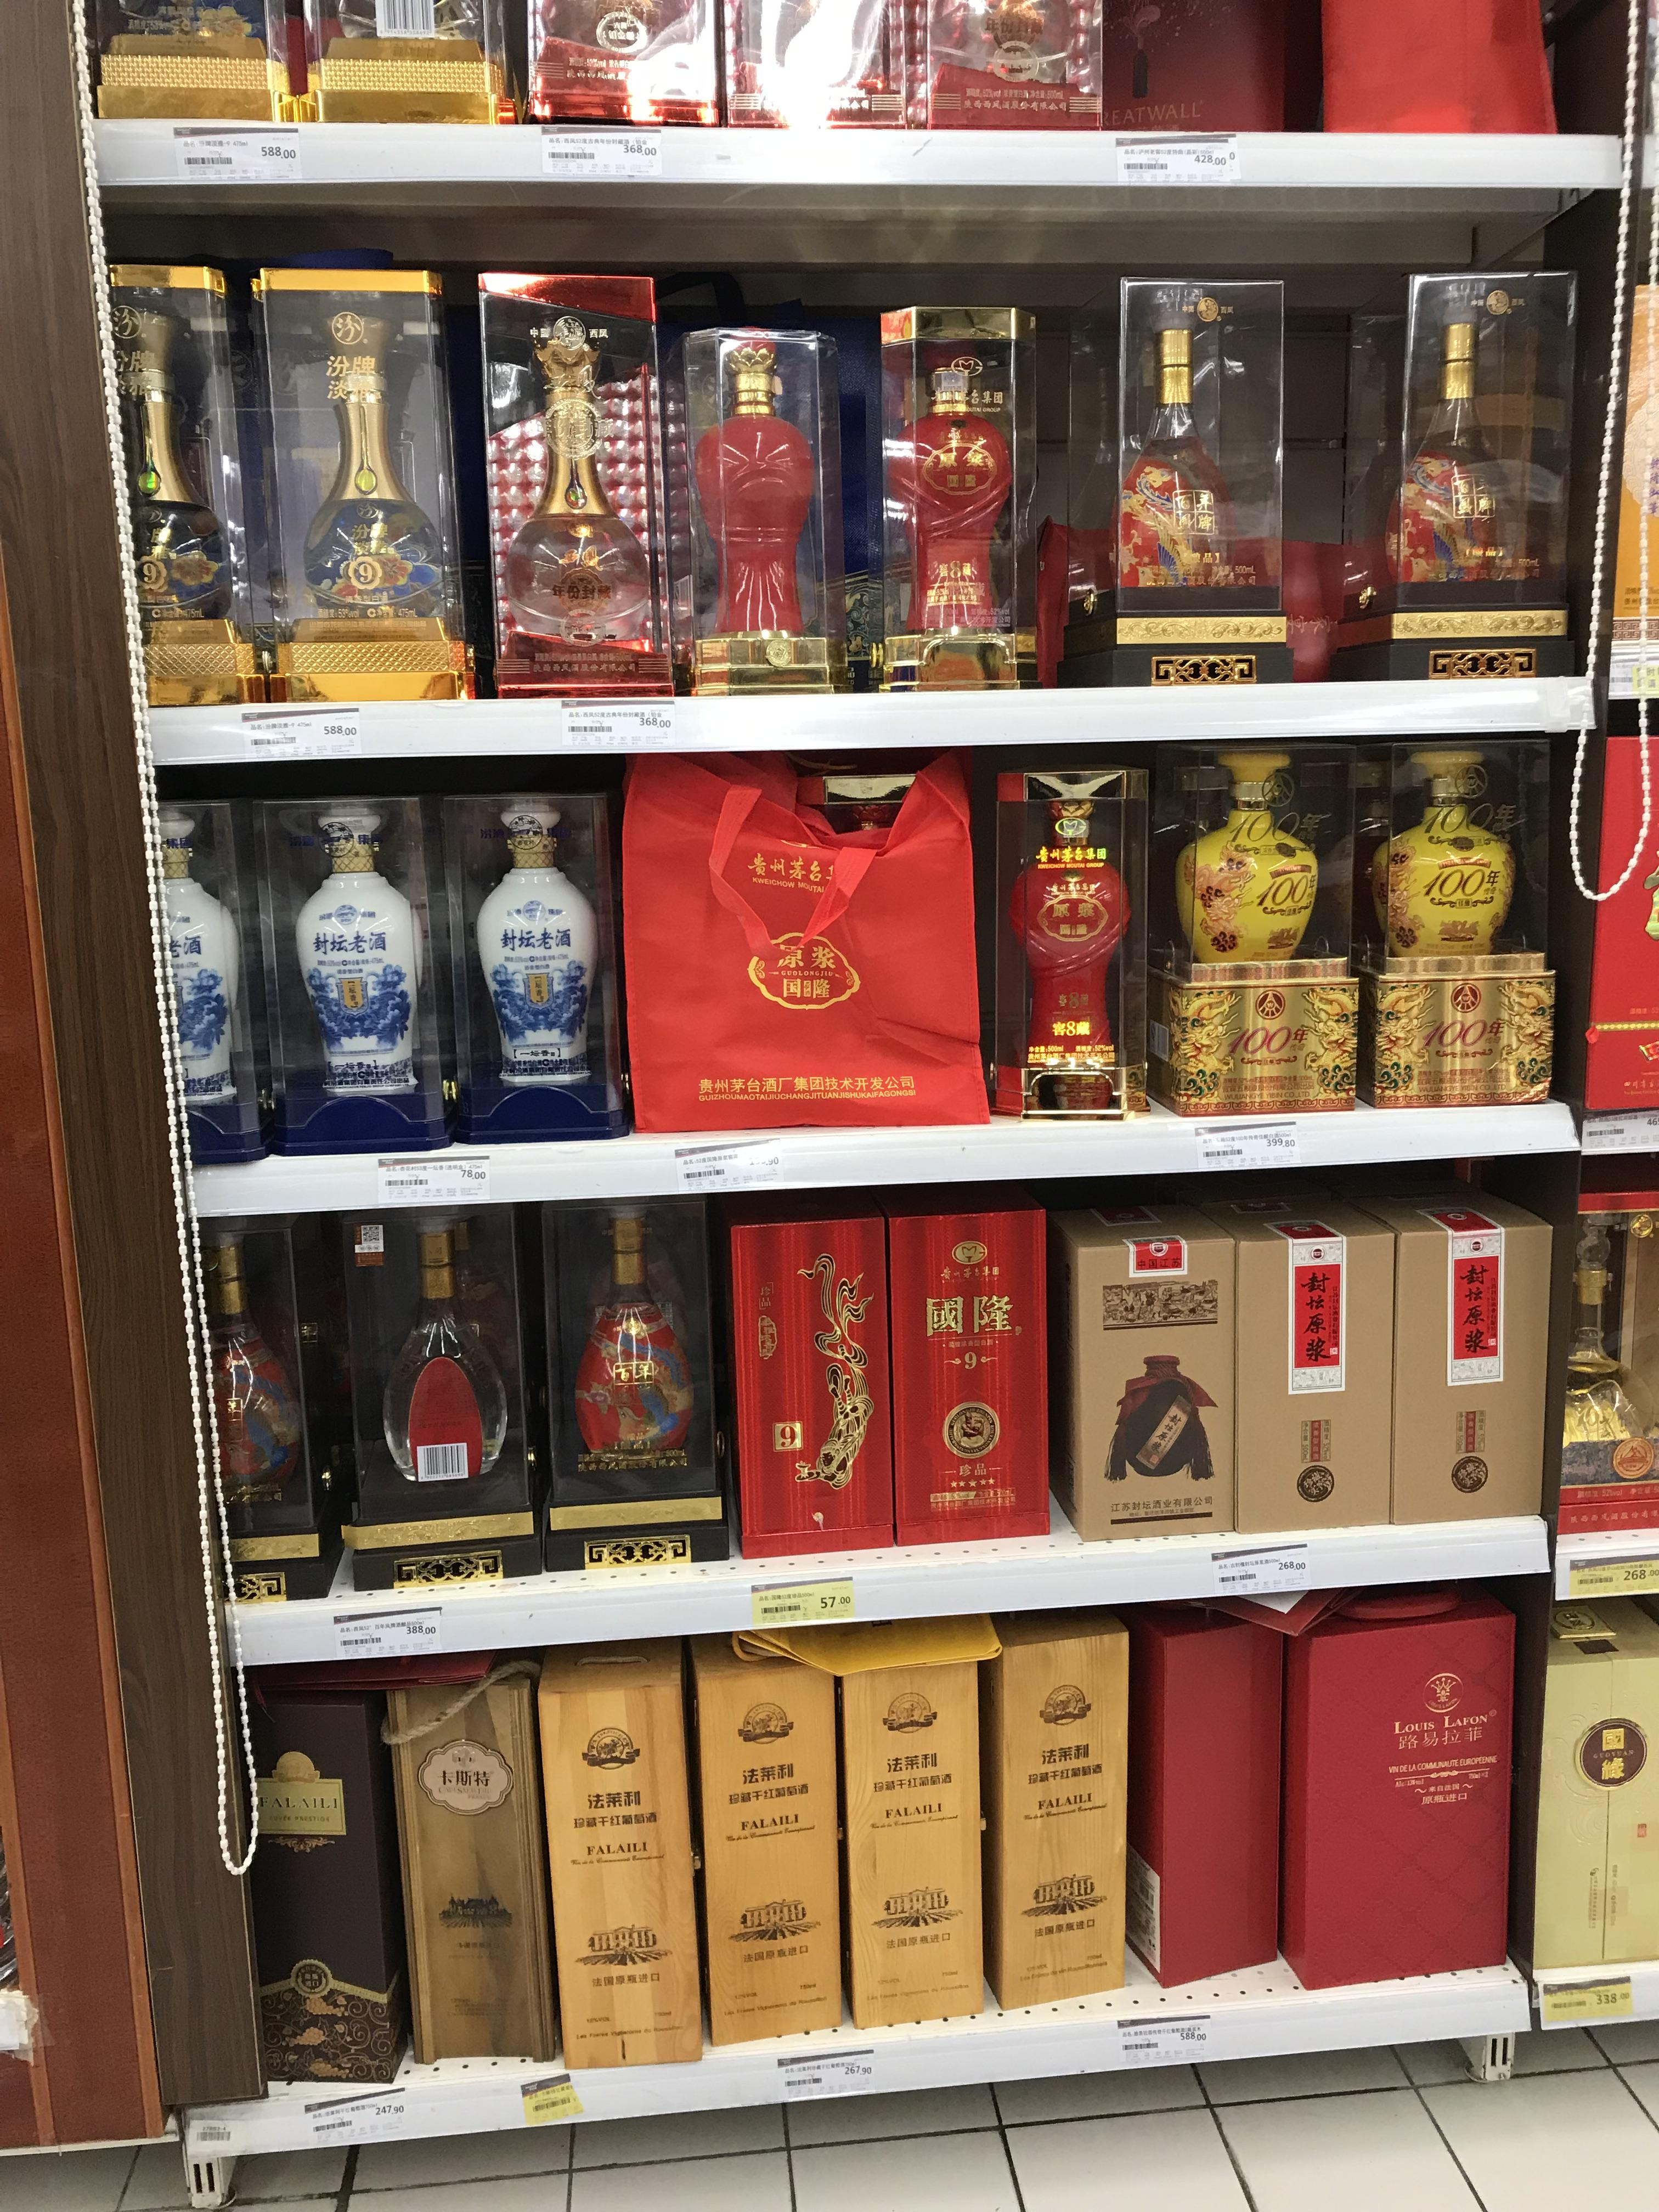bag: (483, 260, 681, 702), (105, 0, 308, 117)
bottle: (1061, 280, 1319, 691), (1331, 270, 1575, 693), (254, 253, 453, 705), (335, 1216, 542, 1588), (1157, 737, 1347, 1127), (1375, 738, 1560, 1108), (547, 1200, 725, 1571), (251, 789, 423, 1151), (997, 758, 1148, 1123), (446, 792, 603, 1137), (112, 279, 234, 704), (190, 1214, 314, 1602), (136, 789, 249, 1170), (1159, 752, 1269, 1115)
box: (1284, 1566, 1514, 1987), (530, 1642, 711, 2074), (378, 1665, 563, 2081), (866, 301, 1061, 695), (232, 1679, 415, 2085), (826, 1590, 990, 2034), (1237, 1204, 1450, 1534), (687, 1608, 843, 2052), (671, 326, 854, 698), (1053, 1191, 1246, 1534), (971, 1597, 1127, 2012), (1121, 1604, 1286, 1996), (1347, 1179, 1532, 1529), (727, 1200, 904, 1552), (885, 1190, 1046, 1543), (1514, 1578, 1649, 1966), (1547, 1183, 1659, 1548), (1567, 730, 1659, 1127), (1107, 2, 1300, 138), (525, 0, 720, 131), (913, 0, 1103, 129), (730, 0, 910, 129)
others: (620, 742, 1004, 1134), (1304, 2, 1567, 148), (296, 0, 504, 129)
